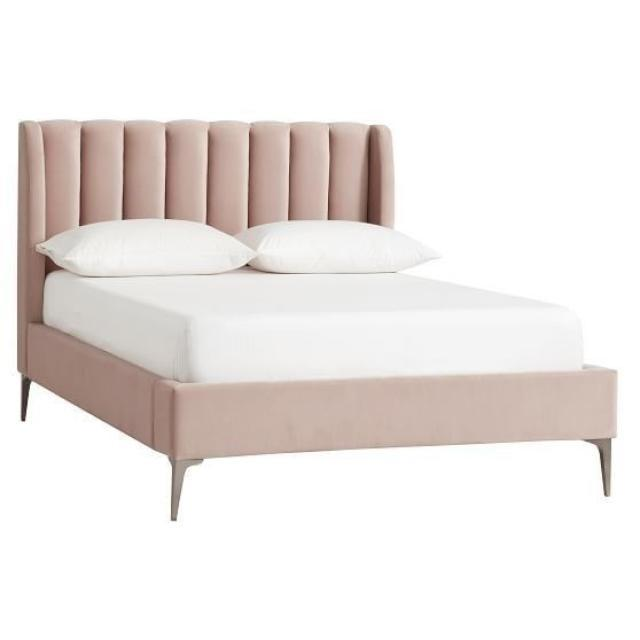obstacle: (14, 117, 618, 521)
